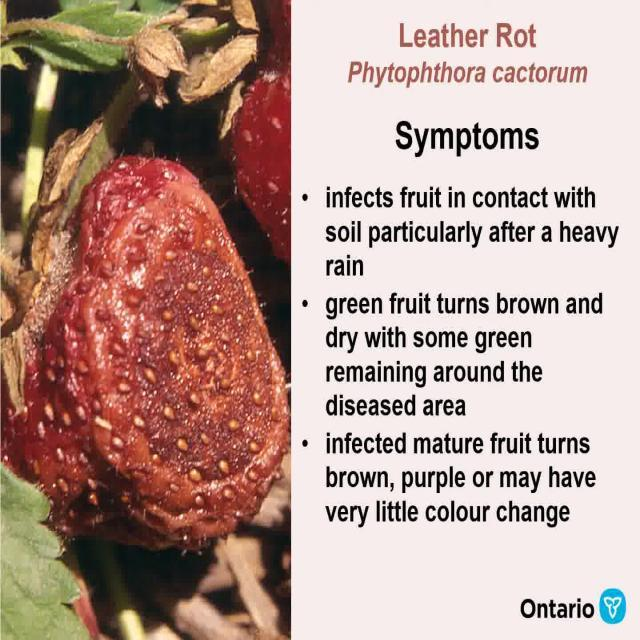Mancha negra Antracnosis: (32, 126, 294, 577)
